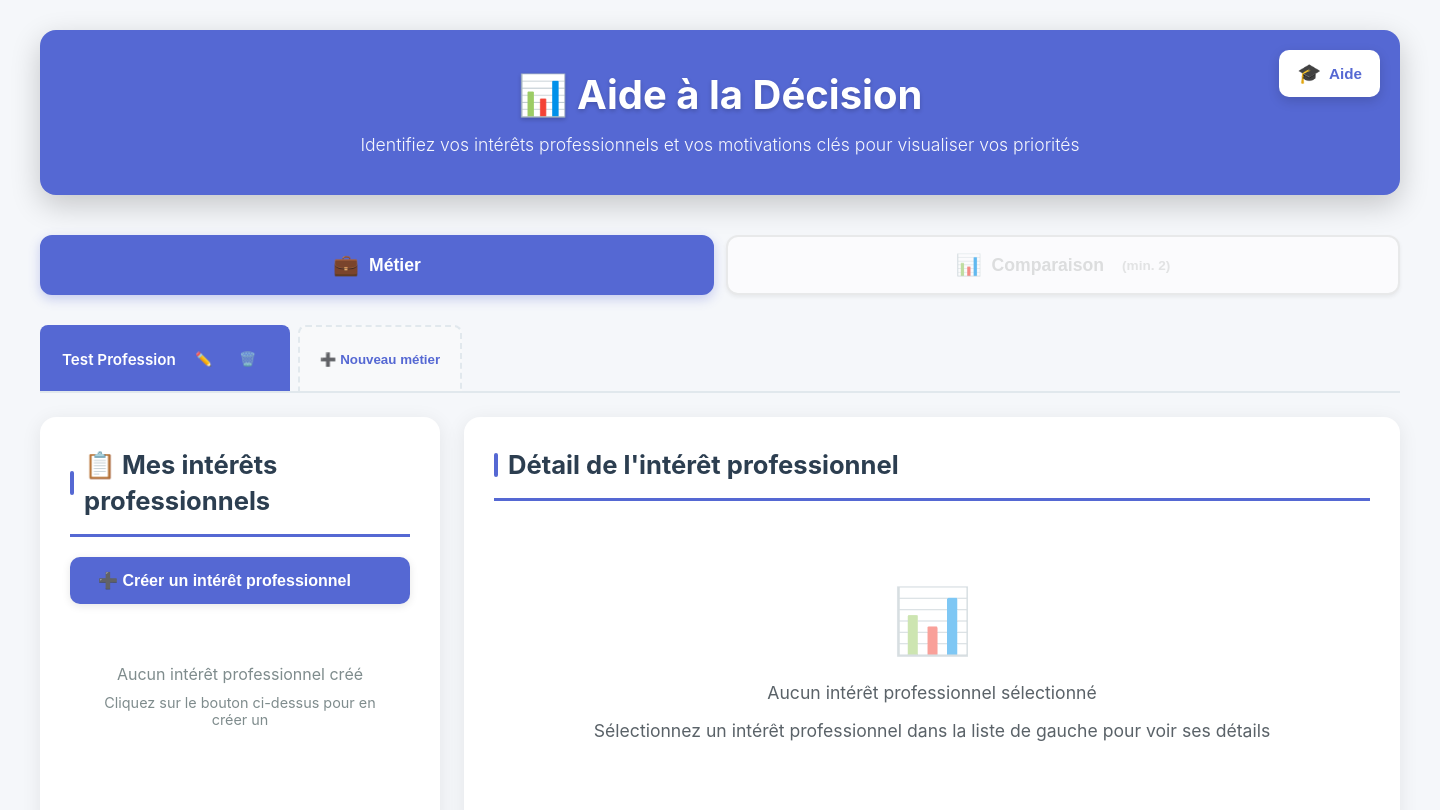
Test: App › should display success message when category is added
Expected: the text "Test Profession" is shown, x1=62 y1=350 x2=176 y2=368
Step 1. Click the button with aria-label "créer un nouvel intérêt professionnel" → [240, 580], box x1=70 y1=557 x2=410 y2=604
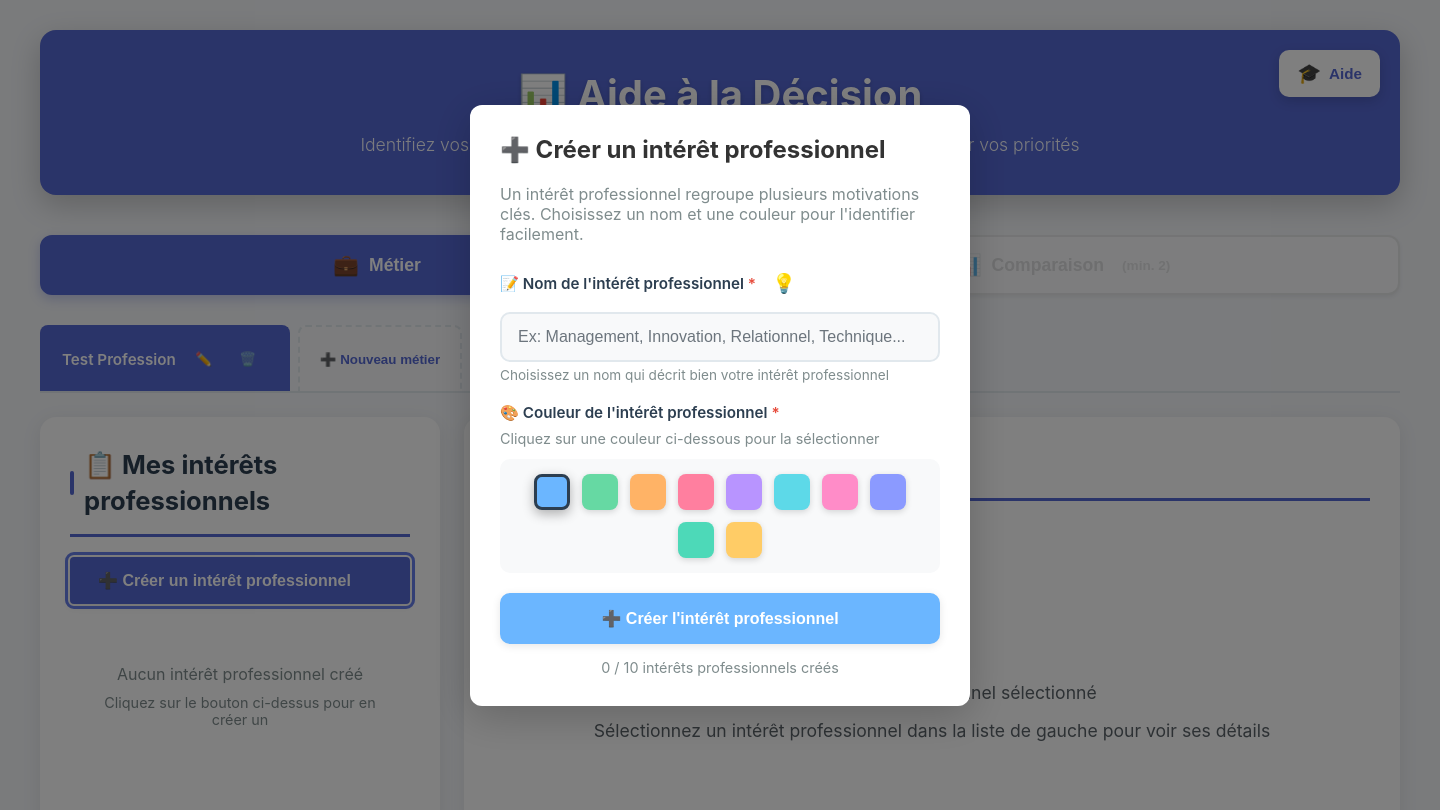
Step 2. Type "New Category" into the field labelled "📝 Nom de l'intérêt professionnel * 💡" → [720, 336], box x1=500 y1=312 x2=940 y2=362
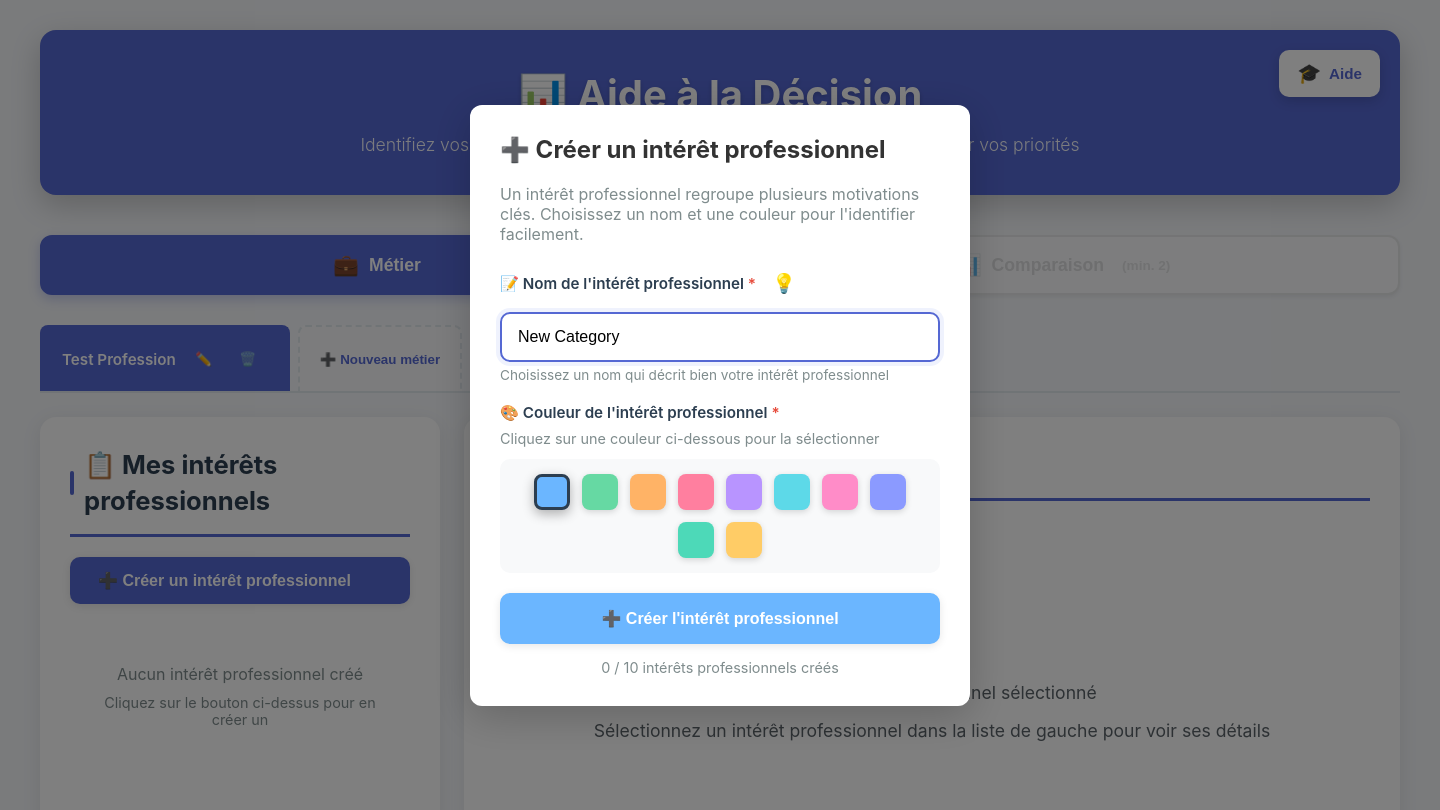
Step 3. Click the button "➕ Créer l'intérêt professionnel" → [720, 618], box x1=500 y1=592 x2=940 y2=644
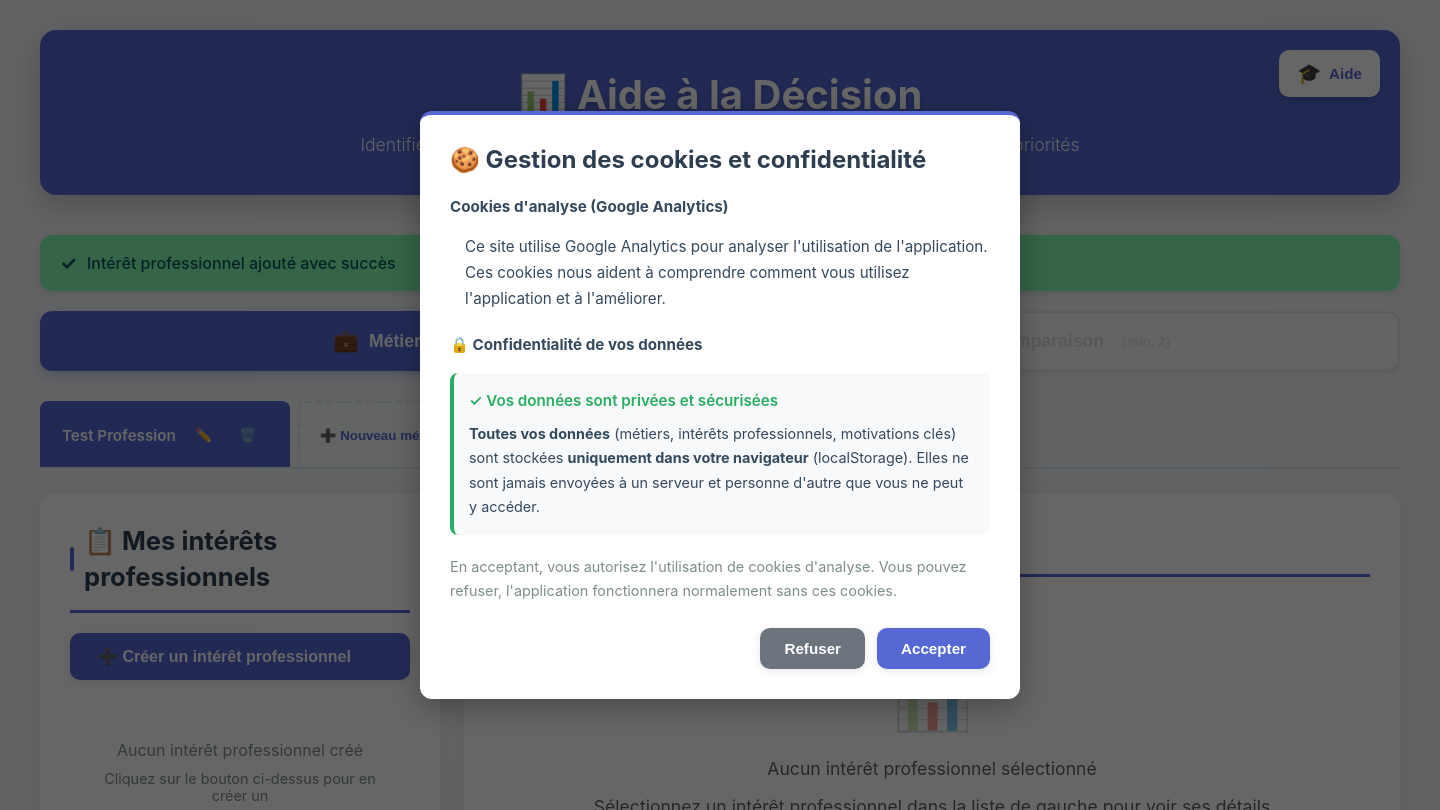
Expected: the text "Intérêt professionnel ajouté avec succès" is shown, x1=40 y1=235 x2=1400 y2=291
